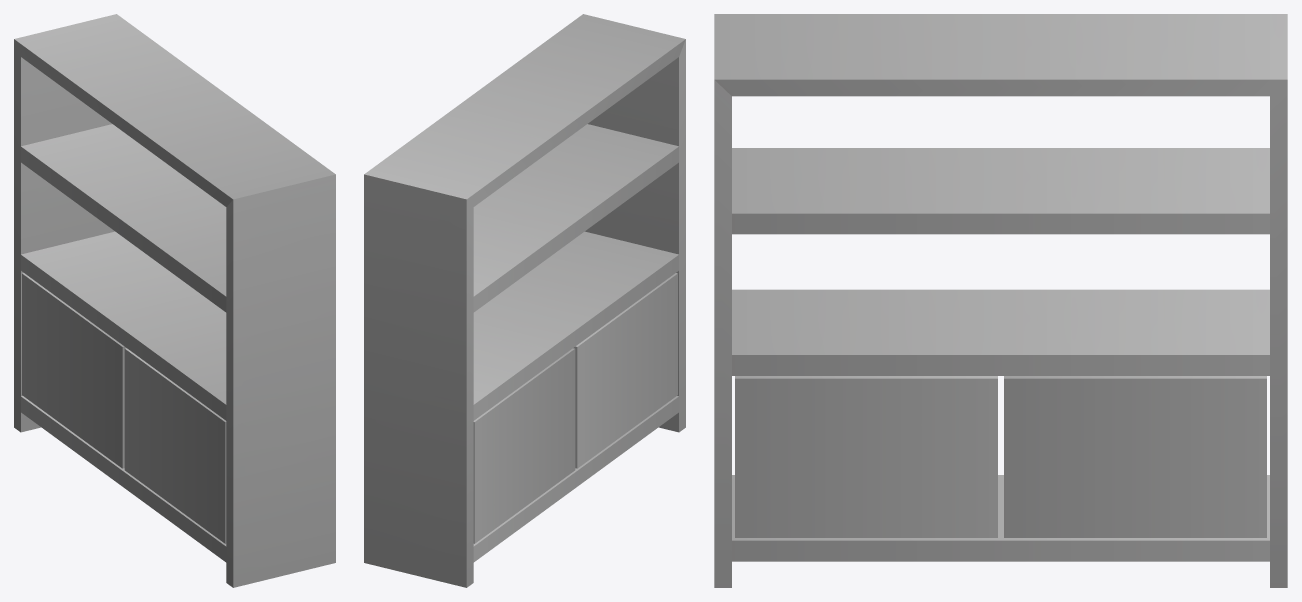
The model's file is LargeCabinet2.fbx.
3 renders of one model, left to right at view 1: azimuth 30°, elevation 25°; view 2: azimuth 150°, elevation 25°; view 3: azimuth 270°, elevation 25°, orthographic. The views are drawn at different scales.
Visible parts, largest first — view 1: LargeCabinet2; view 2: LargeCabinet2; view 3: LargeCabinet2.
Part boxes in pixels (x1=…): LargeCabinet2: x1=14, y1=14, x2=335, y2=587; LargeCabinet2: x1=364, y1=14, x2=685, y2=587; LargeCabinet2: x1=714, y1=14, x2=1287, y2=587.
Bounding box in the file's own units: 99.56 × 360 × 368.
1 material, 1 textured.
